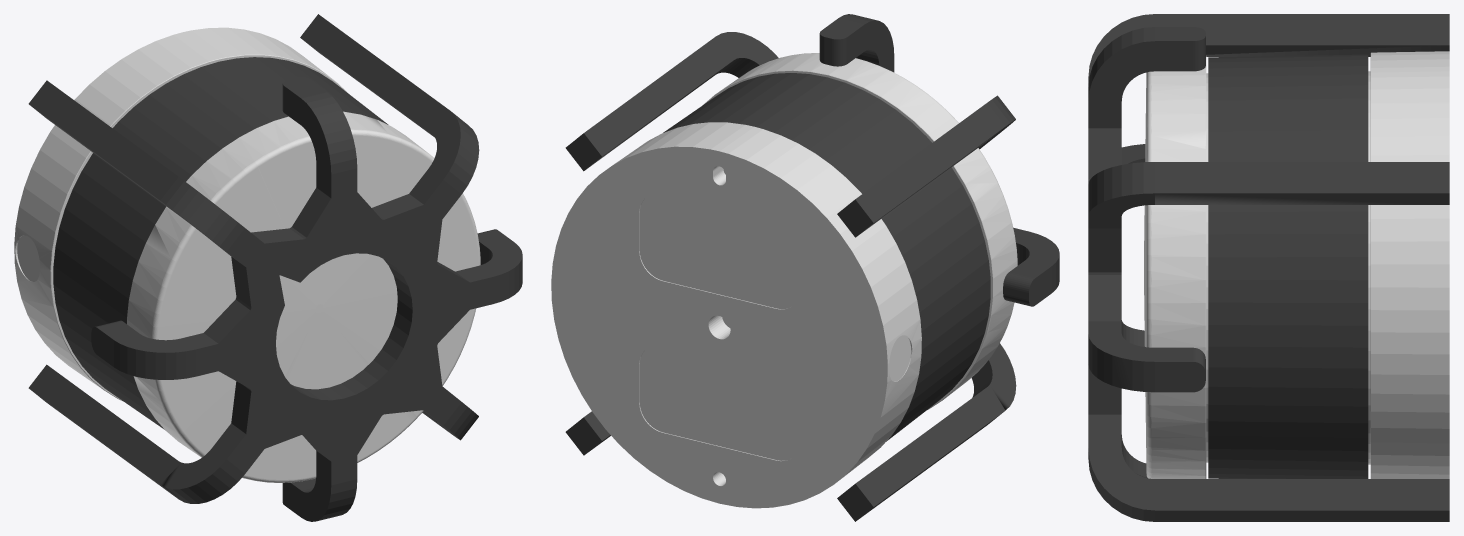
Rendered from Velo.glb.
The picture shows the model from 3 angles, left to right: view 1: azimuth 30°, elevation 25°; view 2: azimuth 150°, elevation 25°; view 3: azimuth 270°, elevation 25°; orthographic projection. The views are drawn at different scales.
Visible parts, largest first — view 1: Velo; view 2: Velo; view 3: Velo.
Boxes of the visible parts, bbox=[...] form: Velo: bbox=[14, 14, 522, 521]; Velo: bbox=[551, 14, 1059, 521]; Velo: bbox=[1088, 14, 1449, 521].
Size of the model in its own units: 0.1229 by 0.1229 by 0.0859.
Materials: 1 (1 with a texture image).
